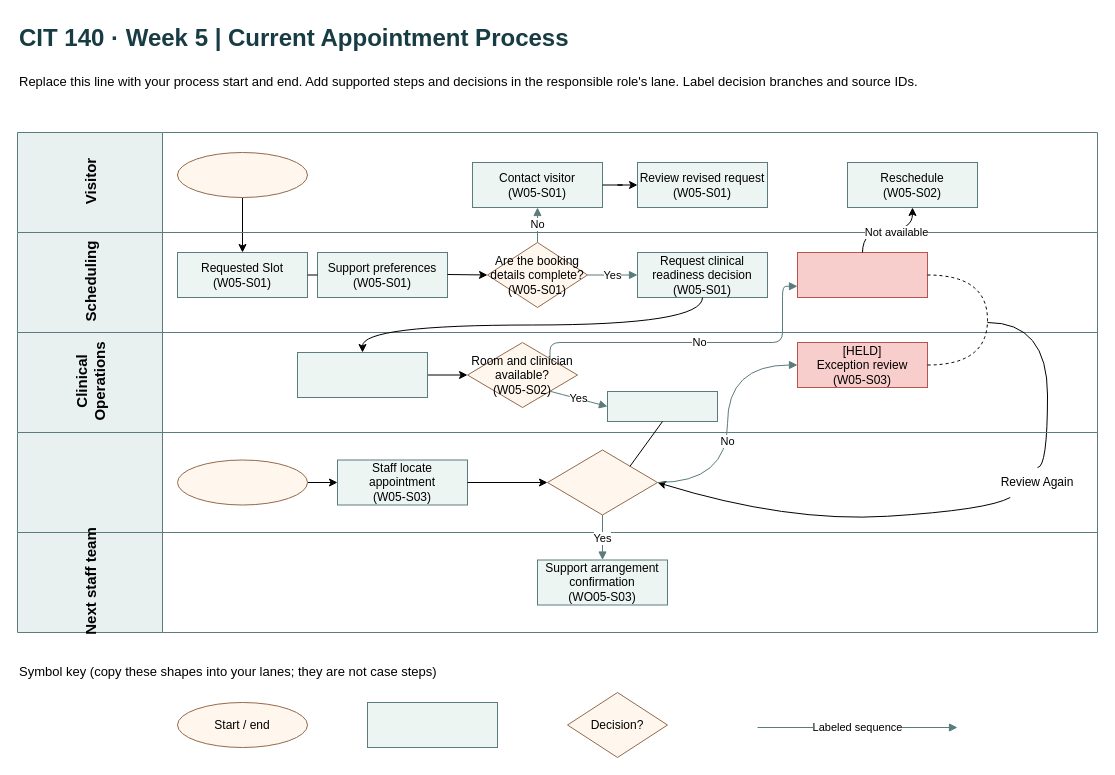
Some shapes in this 1115 by 775 pixel diagram are drawn without their labels. The box of each missing label's shape, as (x1, y1, x2, y2) in pixels:
[HELD] Review capacity (W05-S02): (796, 252, 928, 298)
Activity: (366, 702, 498, 748)
Intake: (16, 432, 1098, 532)
Receive scheduling request (W05-S02): (296, 352, 428, 398)
Record readiness (W05-S02): (606, 390, 718, 422)
Status: Ready? (W05-S03): (546, 449, 658, 515)
Visitor arrives (W05-S03): (176, 459, 308, 505)
Visitor requests an appointment (W05-S01): (176, 152, 308, 198)
